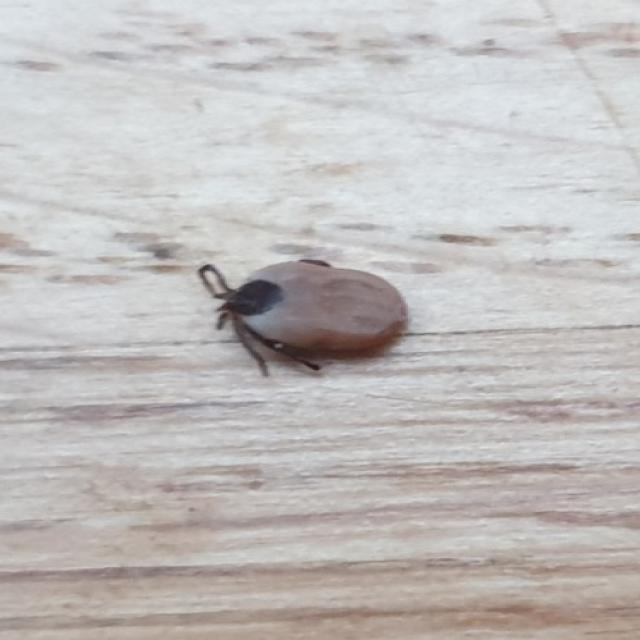Ixodes Ricinus-F-Fed: (196, 259, 410, 378)
